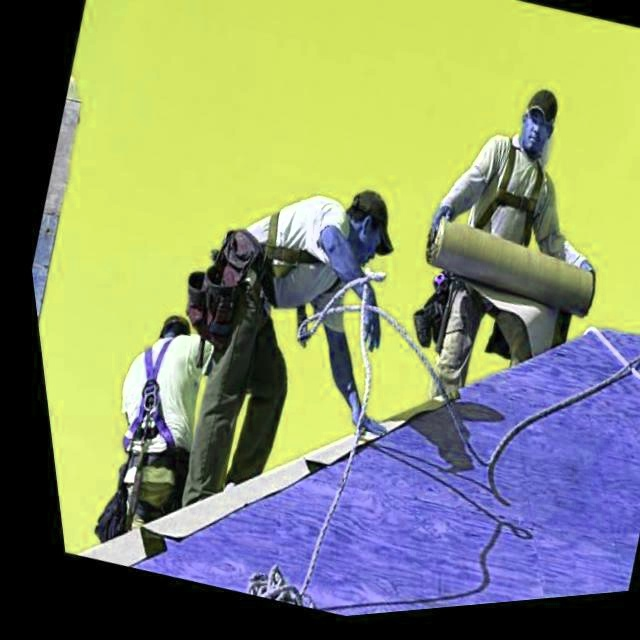safety belt: (447, 130, 578, 329), (198, 191, 369, 312), (108, 319, 210, 474)
